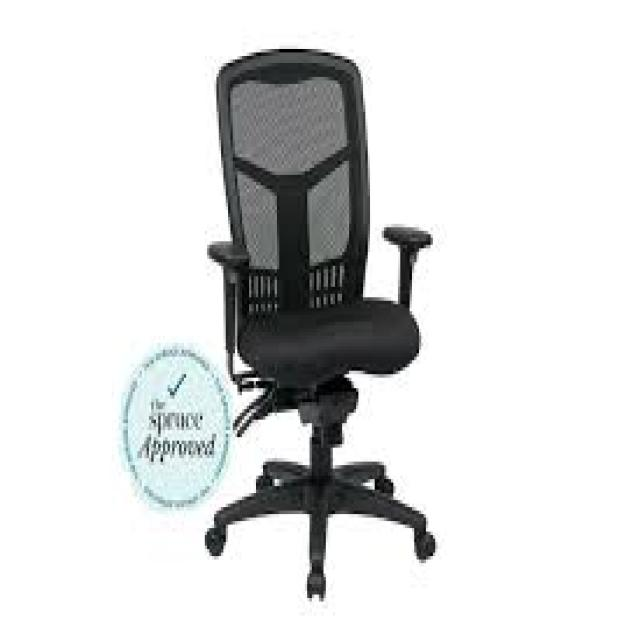chair: (134, 17, 478, 630)
